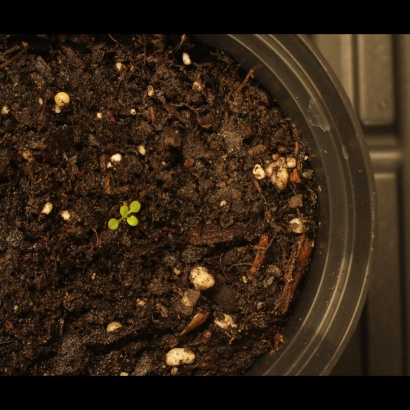leaf: (129, 193, 152, 216), (98, 215, 121, 238), (124, 217, 147, 240), (108, 197, 131, 220)
